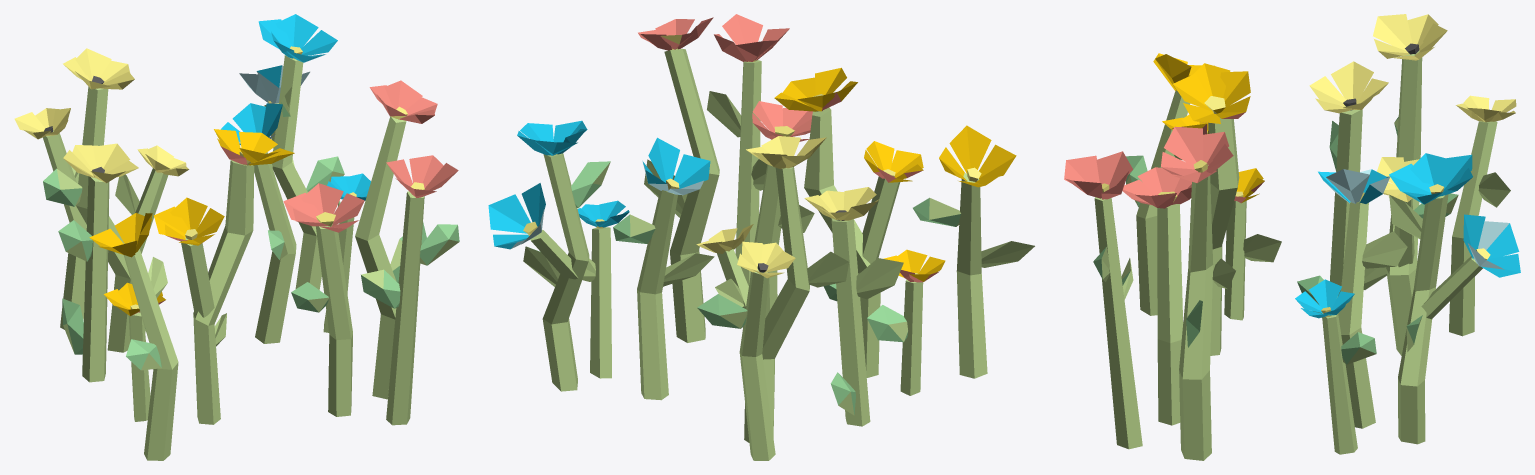
File: flowers.glb
3 views of the same model, side by side, from view 1: azimuth 30°, elevation 25°; view 2: azimuth 150°, elevation 25°; view 3: azimuth 270°, elevation 25° (orthographic). The views are drawn at different scales.
Parts seen in each view (by area): view 1: yellowflower3, redflower1, paleflower1, blueflower2, paleflower3, redflower2, yellowflower1, redflower3, blueflower1, paleflower2, yellowflower2, blueflower3; view 2: blueflower2, paleflower1, yellowflower1, yellowflower3, blueflower1, redflower3, paleflower3, paleflower2, redflower1, yellowflower2, blueflower3, redflower2; view 3: blueflower2, redflower3, paleflower1, redflower1, yellowflower3, blueflower1, redflower2, paleflower3, paleflower2, blueflower3, yellowflower1, yellowflower2.
Boxes of the visible parts, x1,y1,x2,y2 form: yellowflower3: (154,129,294,424); redflower1: (361,155,459,425); paleflower1: (43,48,189,352); blueflower2: (239,14,344,289); paleflower3: (58,143,138,382); redflower2: (283,183,364,416); yellowflower1: (89,213,178,460); redflower3: (355,80,437,399); blueflower1: (216,103,296,343); paleflower2: (14,108,86,329); yellowflower2: (104,282,165,421); blueflower3: (323,173,370,332); blueflower2: (488,120,610,391); paleflower1: (696,136,849,442); yellowflower1: (913,125,1034,378); yellowflower3: (774,67,923,377); blueflower1: (613,137,714,400); redflower3: (638,17,719,342); paleflower3: (804,187,903,426); paleflower2: (697,241,795,460); redflower1: (707,14,789,286); yellowflower2: (867,249,945,395); blueflower3: (577,200,629,378); redflower2: (752,101,814,317); blueflower2: (1389,153,1520,444); redflower3: (1161,126,1233,460); paleflower1: (1373,14,1458,355); redflower1: (1064,151,1142,449); yellowflower3: (1162,63,1250,355); blueflower1: (1297,169,1407,428); redflower2: (1122,167,1191,425); paleflower3: (1309,61,1388,295); paleflower2: (1449,95,1516,336); blueflower3: (1295,279,1376,454); yellowflower1: (1126,53,1214,315); yellowflower2: (1224,168,1281,320).
Bounding box in the file's own units: 1.6 × 1.32 × 1.67.
